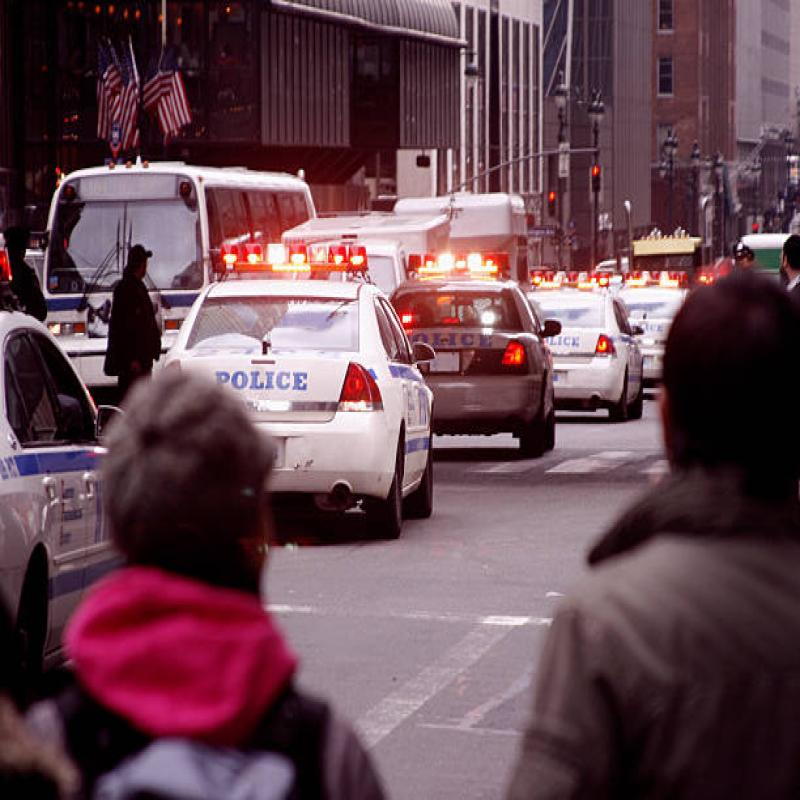AmbulanceSiren: (215, 224, 383, 281), (409, 239, 500, 282)
car: (174, 256, 426, 493)
